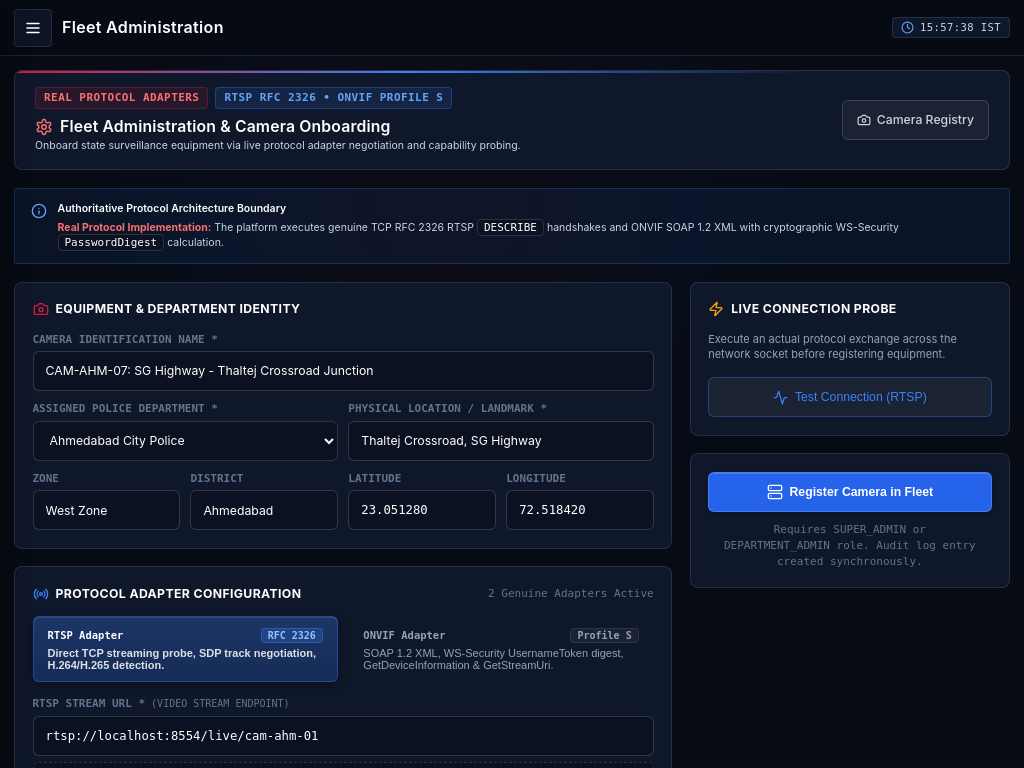
Fleet Administration & Camera Onboarding UI (Phase 4F) › displays degraded status when connection probe returns auth failure
Click the button "ONVIF Adapter".
click(501, 649)  # box [348, 616, 654, 682]
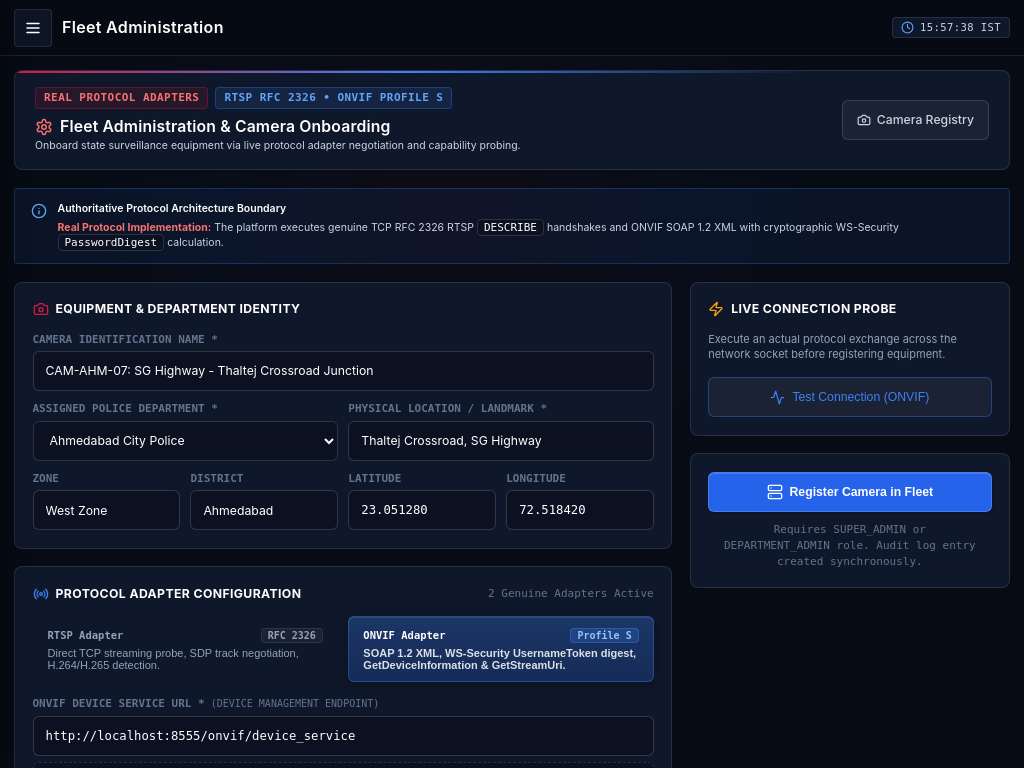
Click the button "Test Connection (ONVIF)".
click(850, 397)  # box [708, 377, 992, 417]
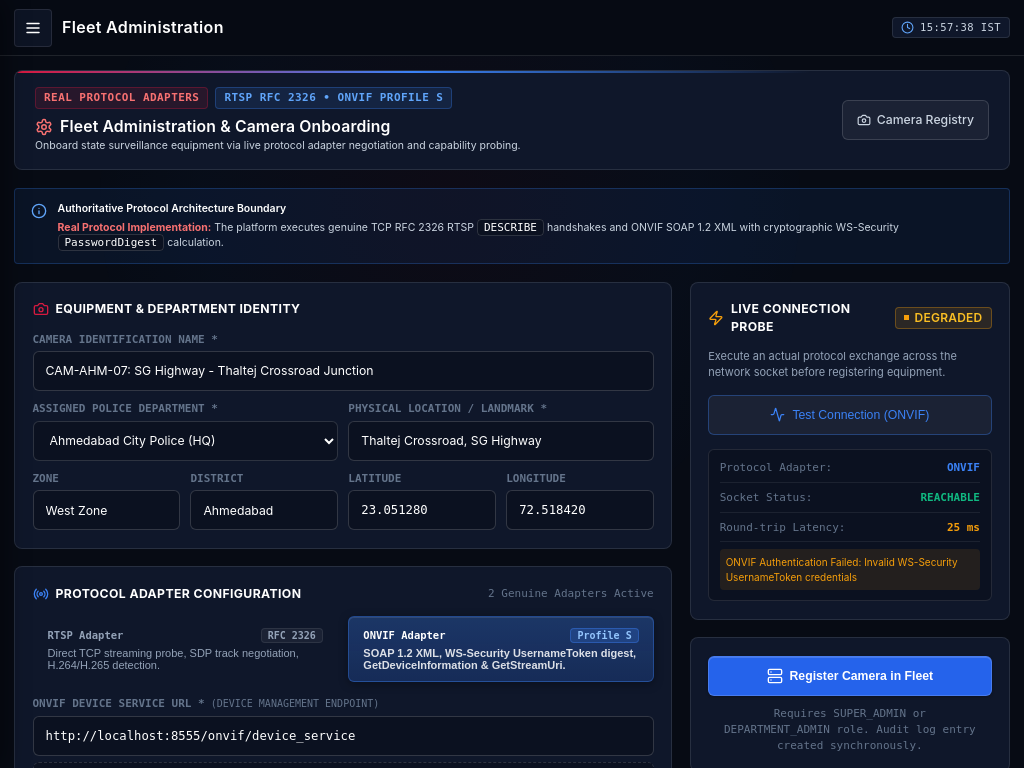
Expected: the text "ONVIF Authentication Failed" is shown, [726, 556, 958, 582]
